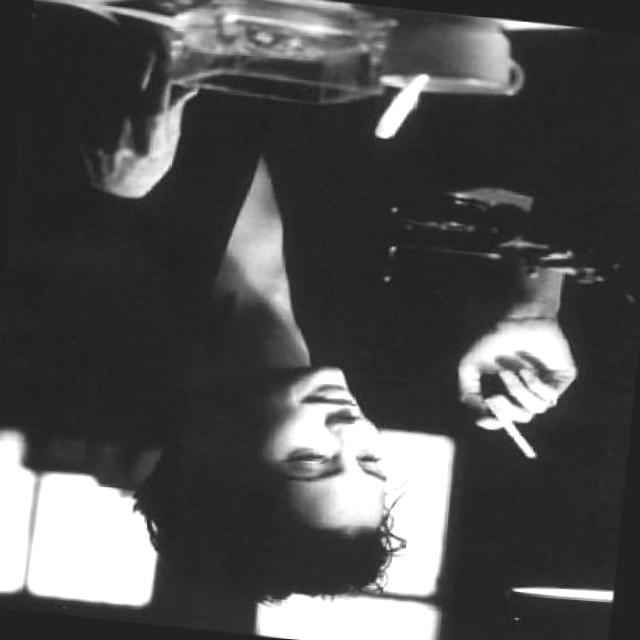cigarette: (474, 394, 543, 459)
